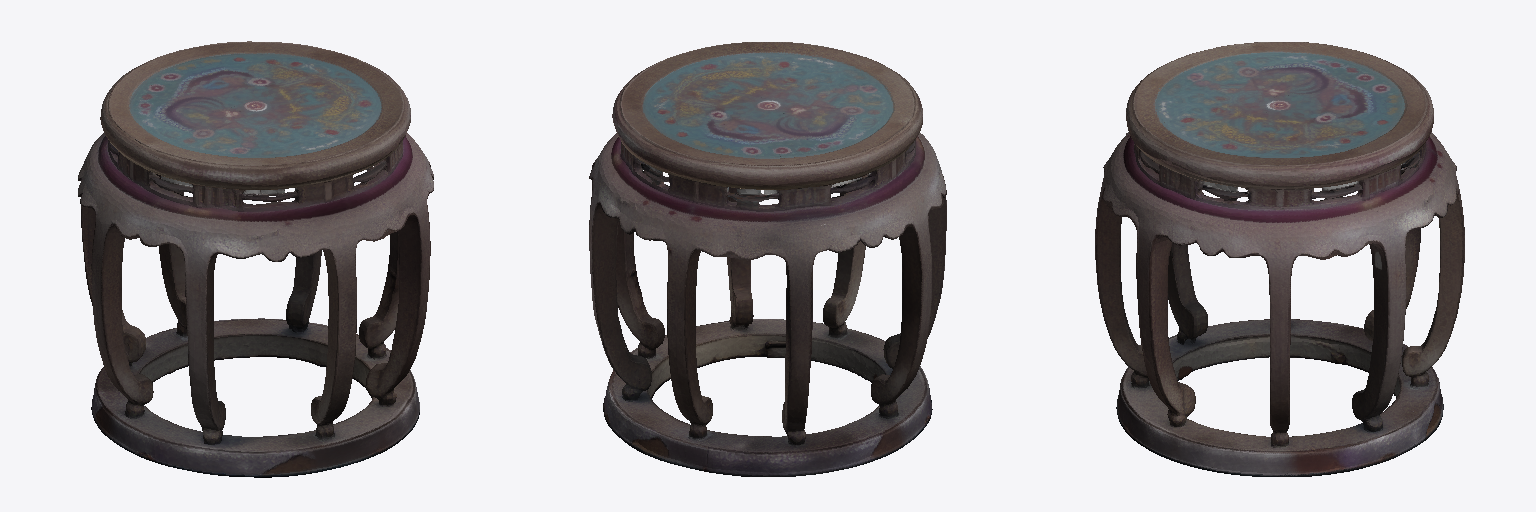
3 renders of one model, left to right at view 1: azimuth 30°, elevation 25°; view 2: azimuth 150°, elevation 25°; view 3: azimuth 270°, elevation 25°, orthographic.
Visible parts, largest first — view 1: geometry_0; view 2: geometry_0; view 3: geometry_0.
Part boxes in pixels (bbox=[...]): geometry_0: bbox=[78, 41, 433, 477]; geometry_0: bbox=[589, 42, 946, 476]; geometry_0: bbox=[1095, 42, 1464, 476].
Size of the model in its own units: 0.9811 by 0.8942 by 0.9816.
1 materials, 1 textured.